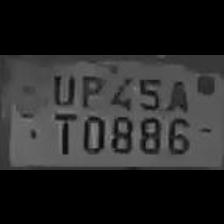0: (78, 110, 106, 153)
4: (106, 69, 134, 108)
5: (134, 72, 162, 108)
6: (163, 114, 191, 156)
8: (107, 110, 135, 154), (135, 112, 163, 154)
A: (162, 72, 190, 112)
P: (76, 69, 104, 108)
T: (48, 110, 76, 154)
U: (46, 68, 78, 108)
